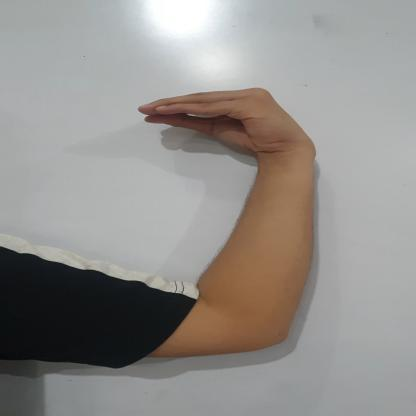Malam: (130, 76, 323, 182)
